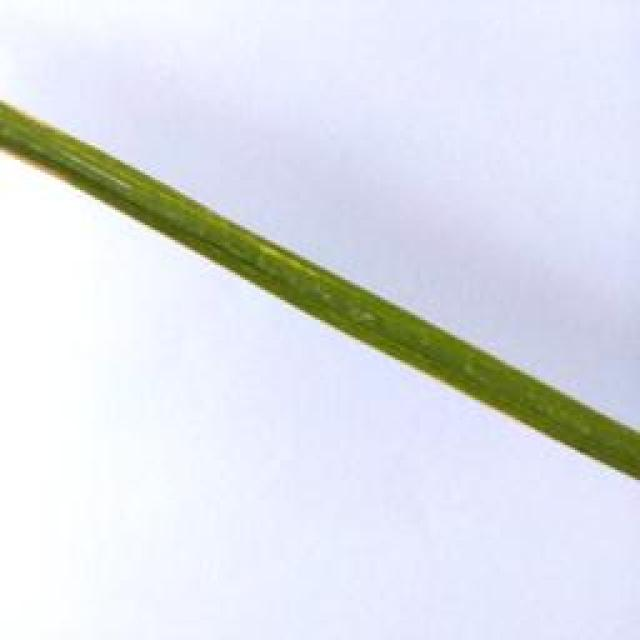Healthy-Plant: (0, 105, 640, 490)
